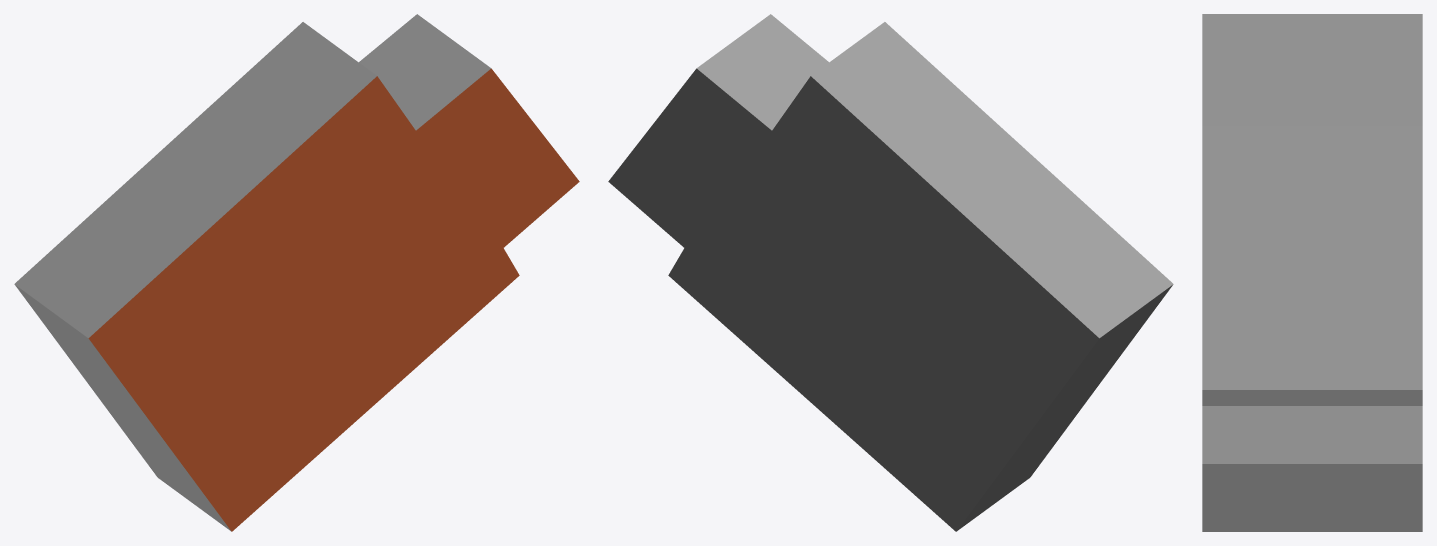
File: construction_5581_assumed_A_Casa_h6m.obj
3 views of the same model, side by side, from view 1: azimuth 30°, elevation 25°; view 2: azimuth 150°, elevation 25°; view 3: azimuth 270°, elevation 25° (orthographic). The views are drawn at different scales.
Visible parts, largest first — view 1: construction_5581_assumed_A_Casa; view 2: construction_5581_assumed_A_Casa; view 3: construction_5581_assumed_A_Casa.
Part boxes in pixels (x1,y1,x2,y2): construction_5581_assumed_A_Casa: [14, 14, 579, 531]; construction_5581_assumed_A_Casa: [608, 14, 1173, 531]; construction_5581_assumed_A_Casa: [1202, 14, 1422, 531].
Size of the model in its own units: 22.92 by 18.74 by 6.
